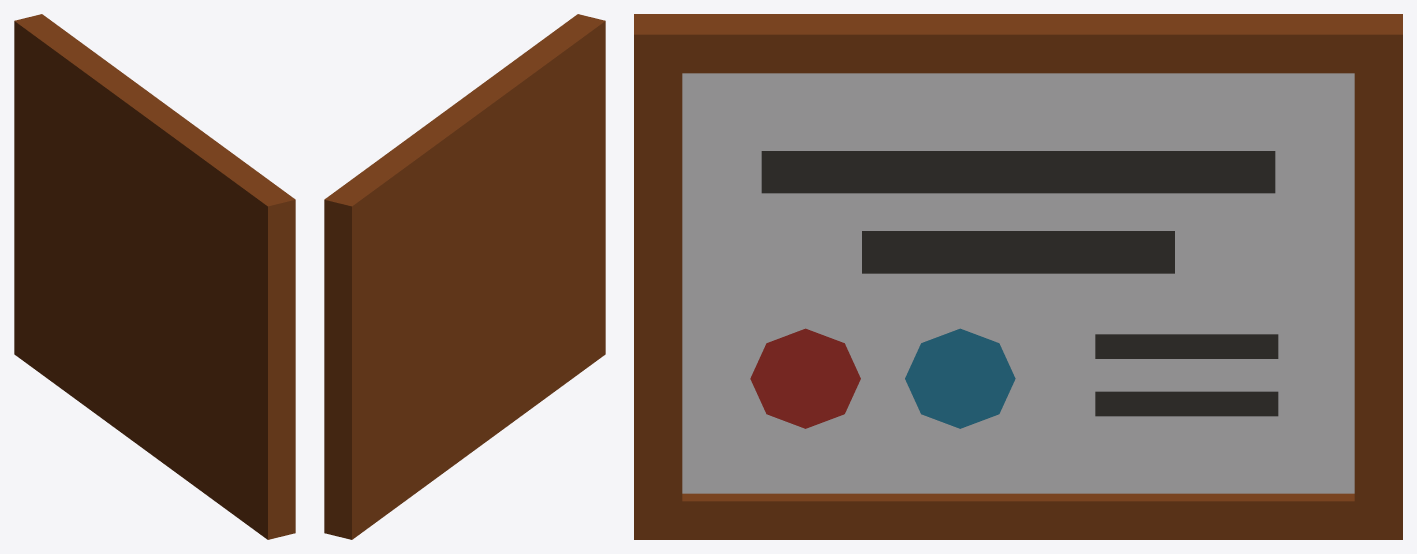
File: SM_Frame_02.glb
The picture shows the model from 3 angles, left to right: view 1: azimuth 30°, elevation 25°; view 2: azimuth 150°, elevation 25°; view 3: azimuth 270°, elevation 25°; orthographic projection. The views are drawn at different scales.
Parts seen in each view (by area): view 1: SM_Frame_02; view 2: SM_Frame_02; view 3: SM_Frame_02.
Boxes of the visible parts, box(x1,y1,x2,y2) form: SM_Frame_02: box(14, 14, 295, 539); SM_Frame_02: box(324, 14, 605, 539); SM_Frame_02: box(634, 14, 1402, 539).
Size of the model in its own units: 0.0274 by 0.3127 by 0.4312.
Materials: 1 (1 with a texture image).
